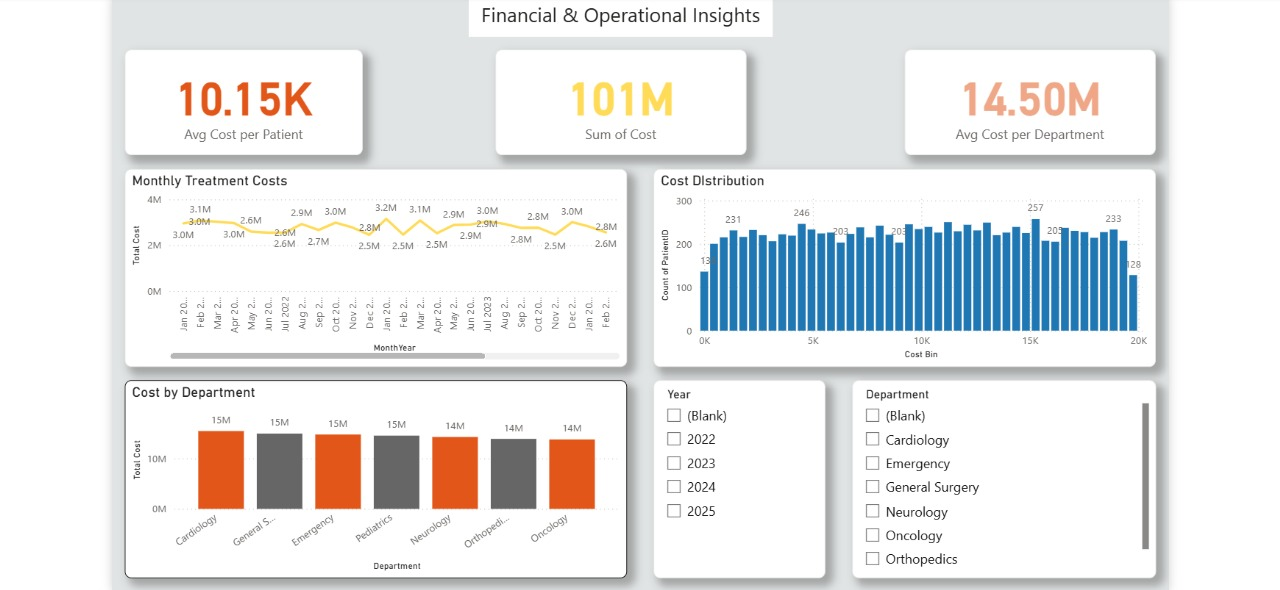

The page's visual inventory and layout, read from the dashboard file:
{"tool":"powerbi","page":{"name":"Financial & Operation Insights","canvas":[1280,720],"ordinal":2},"visuals":[{"type":"textbox","box":[432,0,368,48],"z":0},{"type":"card","fields":{"Values":["Sum(FactTreatments.Cost)"]},"box":[464,64,304,128],"z":1000},{"type":"card","fields":{"Values":["FactTreatments.Avg Cost per Patient"]},"box":[16,64,288,128],"z":2000},{"type":"card","fields":{"Values":["FactTreatments.Avg Cost per Department"]},"box":[960,64,304,128],"z":3000},{"type":"clusteredColumnChart","title":"Cost by Department","fields":{"Category":["DimPatients.Department"],"Y":["FactTreatments.Total Cost"]},"box":[16,464,608,240],"z":4000},{"type":"lineChart","title":"Monthly Treatment Costs","fields":{"Category":["DimPatients.MonthYear"],"Y":["FactTreatments.Total Cost"]},"box":[16,208,608,240],"z":5000},{"type":"clusteredColumnChart","title":"Cost DIstribution","fields":{"Category":["FactTreatments.Cost Bin"],"Y":["CountNonNull(FactTreatments.PatientID)"]},"box":[656,208,608,240],"z":6000},{"type":"slicer","fields":{"Values":["DimDate.Year"]},"box":[656,464,208,240],"z":7000},{"type":"slicer","fields":{"Values":["DimPatients.Department"]},"box":[896,464,368,240],"z":8000}]}

Visuals, with their boxes on the page's 1280x720 design canvas (x1, y1, x2, y2). These are canvas units, not pixel positions in the 1280x590 screenshot, which may show the page scaled, cropped or inside an application window:
textbox: <box>432,0,800,48</box>
card - Sum(FactTreatments.Cost): <box>464,64,768,192</box>
card - FactTreatments.Avg Cost per Patient: <box>16,64,304,192</box>
card - FactTreatments.Avg Cost per Department: <box>960,64,1264,192</box>
"Cost by Department" clusteredColumnChart: <box>16,464,624,704</box>
"Monthly Treatment Costs" lineChart: <box>16,208,624,448</box>
"Cost DIstribution" clusteredColumnChart: <box>656,208,1264,448</box>
slicer - DimDate.Year: <box>656,464,864,704</box>
slicer - DimPatients.Department: <box>896,464,1264,704</box>
